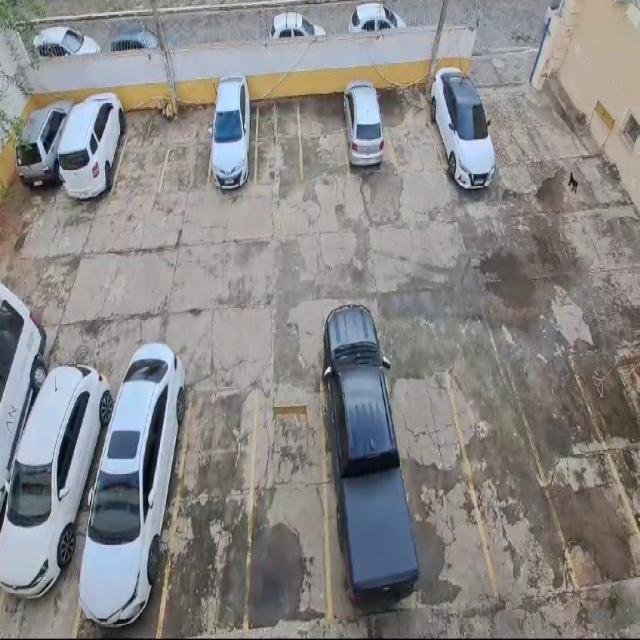empty: (507, 358, 639, 587), (447, 368, 577, 595), (158, 388, 258, 639), (387, 377, 495, 607), (245, 386, 330, 631), (111, 108, 174, 199), (157, 105, 216, 198), (380, 85, 440, 172), (298, 91, 350, 184), (256, 97, 302, 186)
notEmpty: (1, 388, 118, 637), (73, 394, 191, 637), (322, 381, 415, 619), (58, 112, 130, 199), (424, 83, 494, 171), (23, 105, 83, 196), (342, 88, 396, 181), (211, 101, 259, 191)
